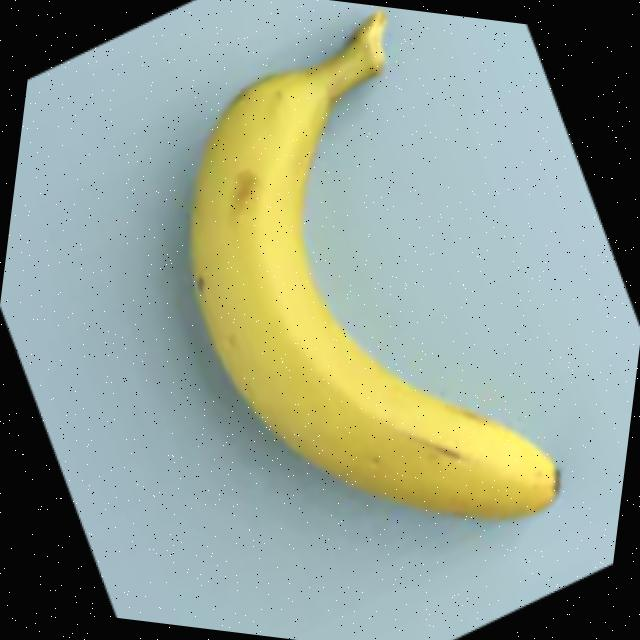banana: (157, 0, 614, 530)
